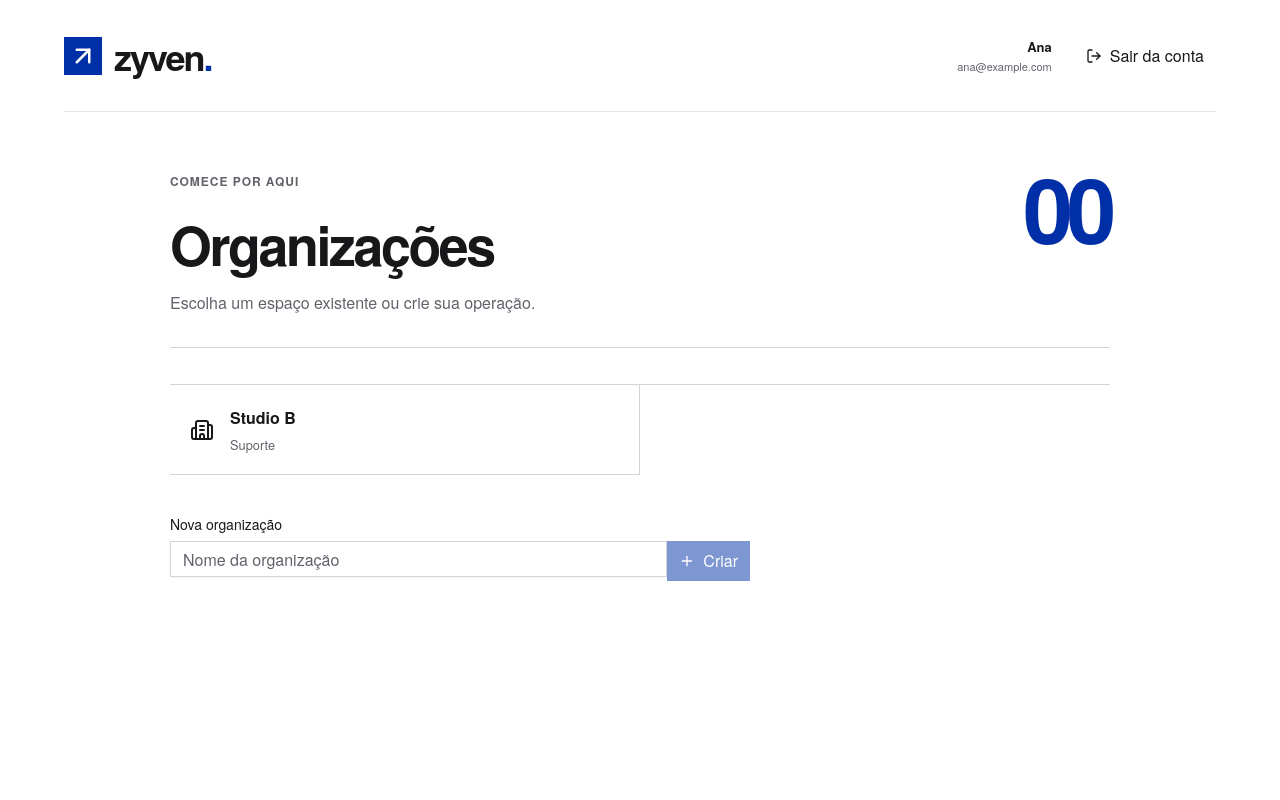
Test: keeps support members read-only
The image size is (1280, 800).
Click the button "Studio B Suporte" at (263, 417), box [170, 385, 640, 475]
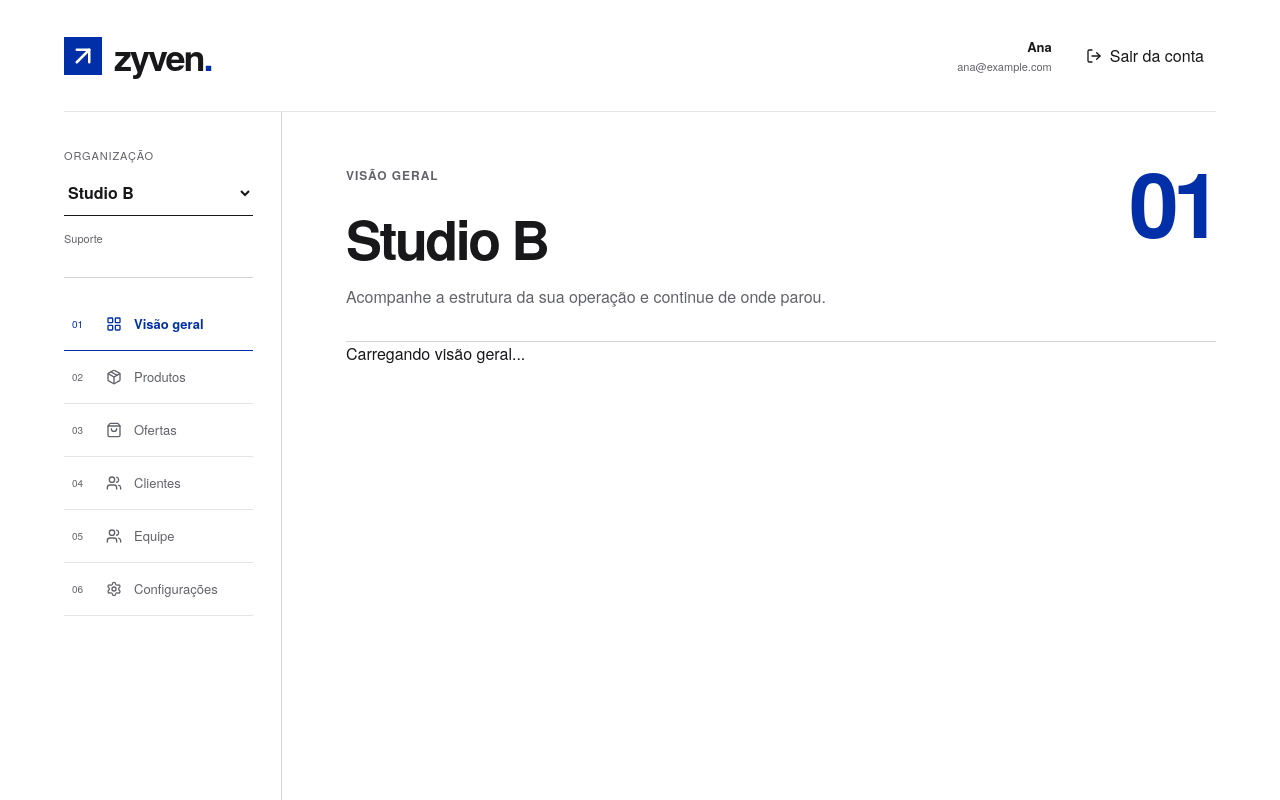
Click the button "05 Equipe" at (158, 536), box [64, 510, 253, 563]
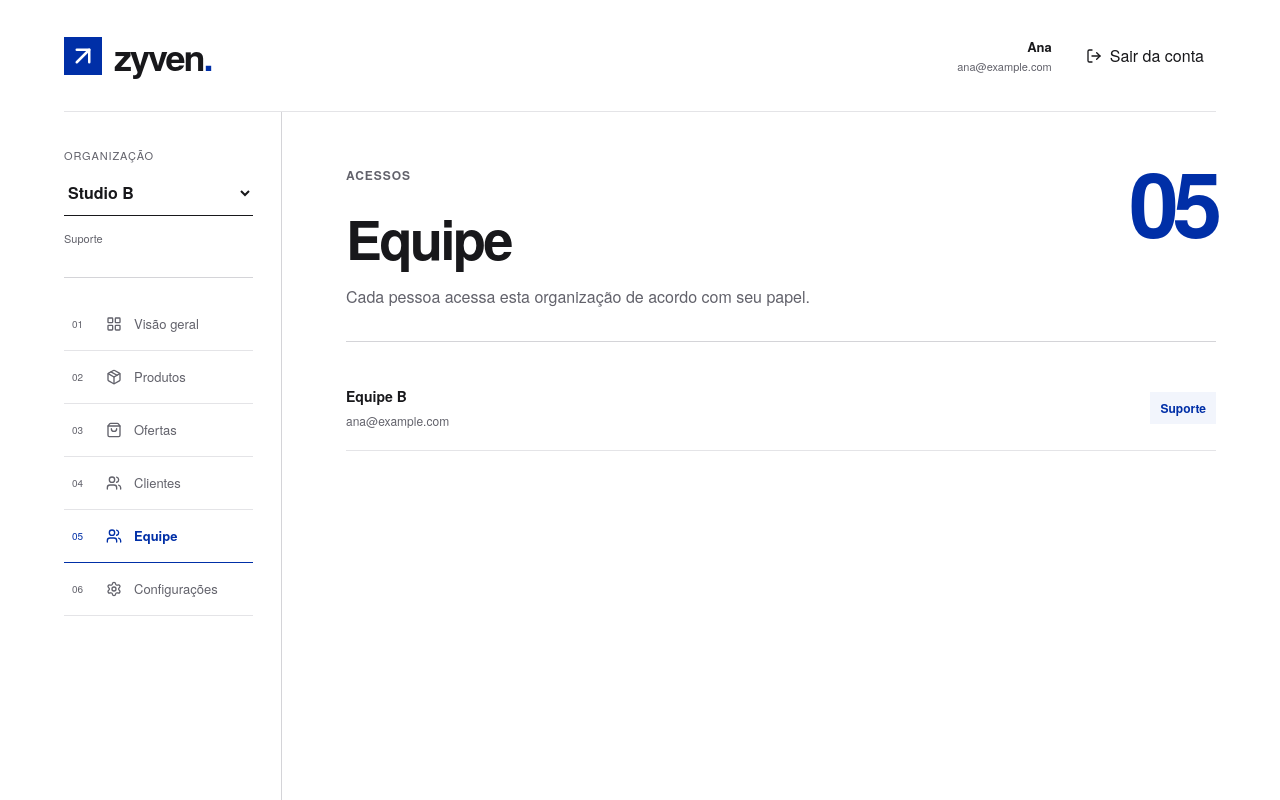
Result: the text "Equipe B" is shown at [346, 386, 407, 406]
